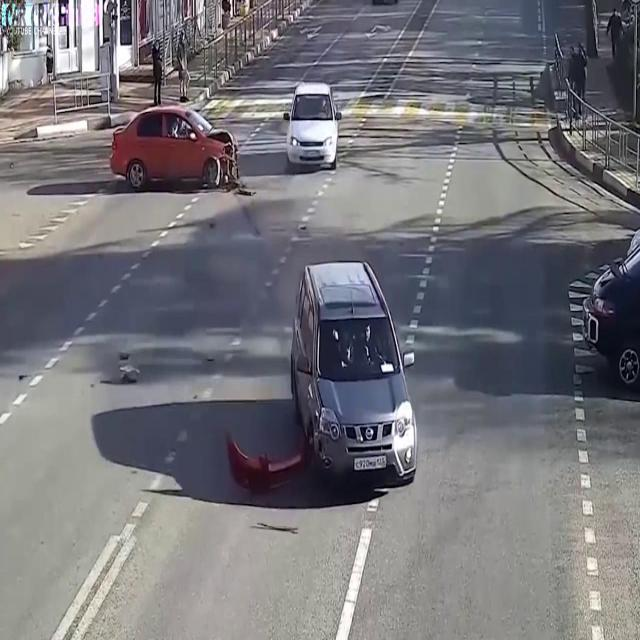accident: (220, 245, 430, 547), (103, 91, 264, 213)
